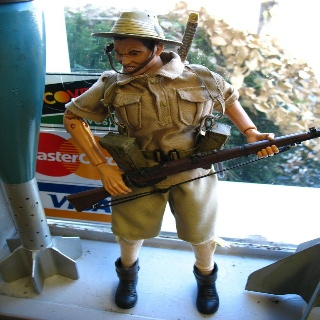rifle: (66, 126, 320, 214)
